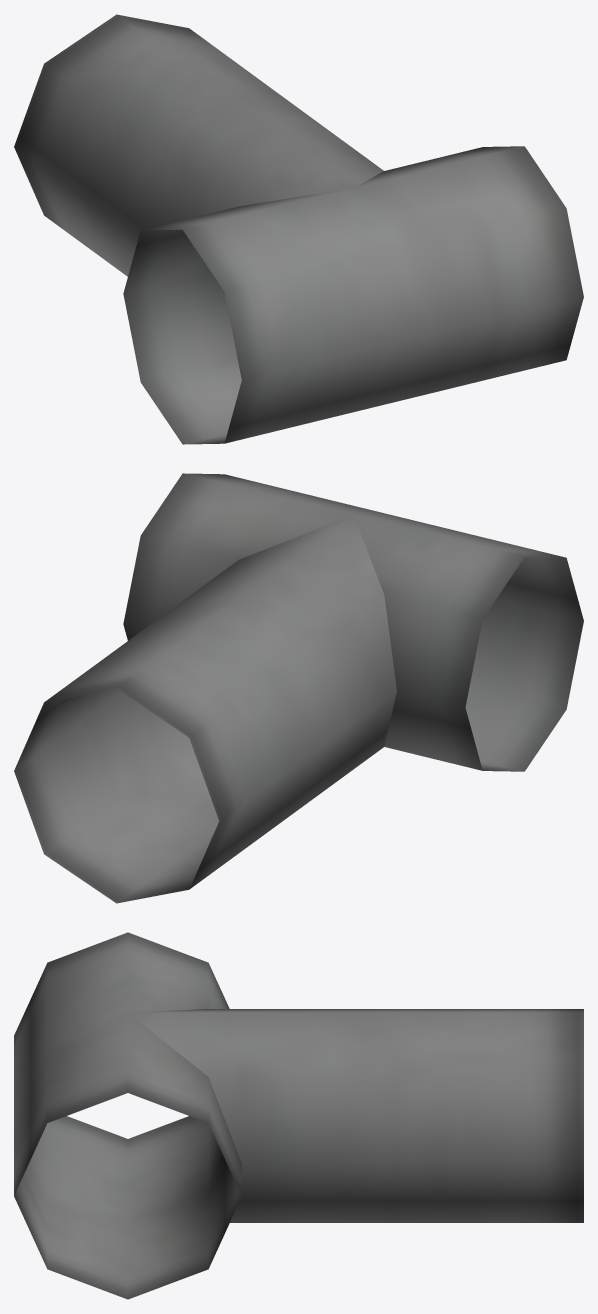
Rendered from eridani_satellite_antenna_srf_1_base_hinge.obj.
The picture shows the model from 3 angles, top to bottom: view 1: azimuth 30°, elevation 25°; view 2: azimuth 150°, elevation 25°; view 3: azimuth 270°, elevation 25°; orthographic projection. The views are drawn at different scales.
Visible parts, largest first — view 1: mesh1; view 2: mesh1; view 3: mesh1.
Part boxes in pixels (<box>): mesh1: <box>14,14,583,444</box>; mesh1: <box>14,473,583,903</box>; mesh1: <box>14,932,583,1299</box>.
Bounding box in the file's own units: 0.125 × 0.075 × 0.1875.
1 material, 1 textured.
